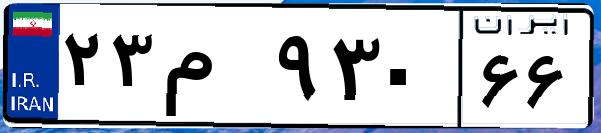0: (385, 28, 445, 110)
2: (57, 26, 110, 100)
3: (330, 28, 385, 110), (110, 28, 158, 98)
6: (475, 38, 525, 113), (525, 38, 570, 115)
9: (270, 28, 330, 110)
م: (158, 20, 270, 120)
